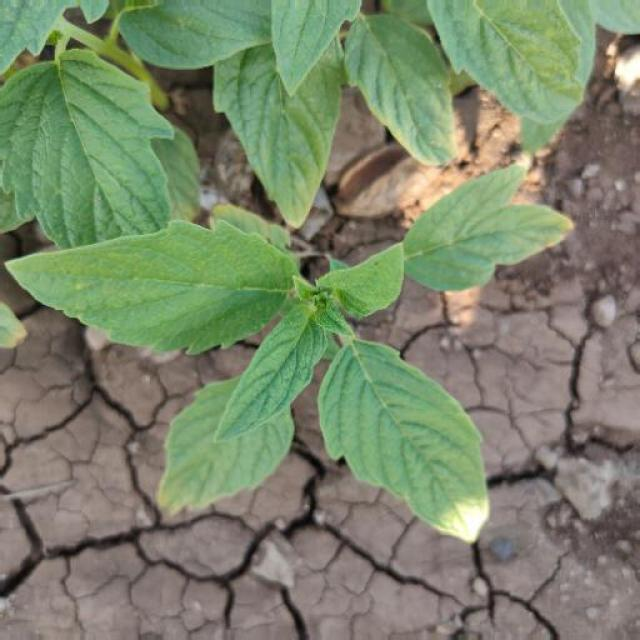crop: (1, 1, 619, 521)
